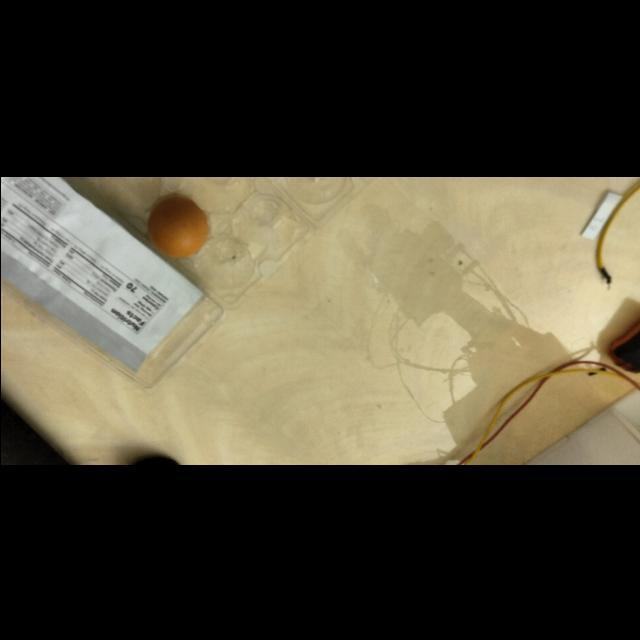Egg: (144, 191, 210, 261)
